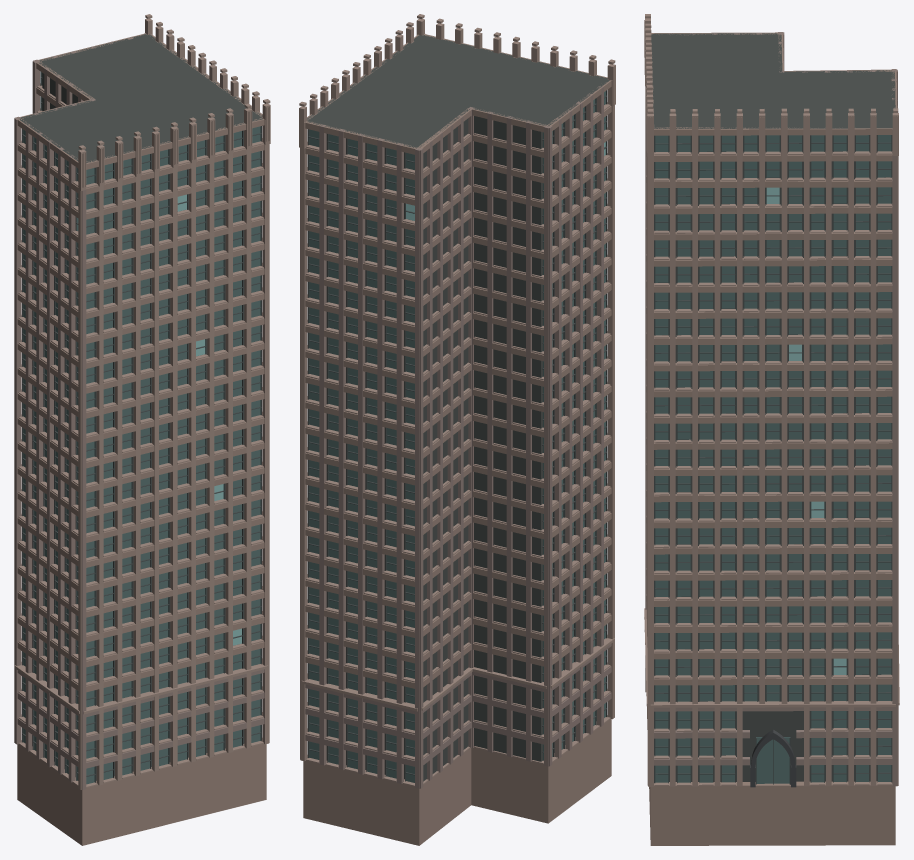
The model's file is lasalle_100.glb.
The picture shows the model from 3 angles, left to right: view 1: azimuth 30°, elevation 25°; view 2: azimuth 150°, elevation 25°; view 3: azimuth 270°, elevation 25°; orthographic projection. The views are drawn at different scales.
Parts seen in each view (by area): view 1: LaSalle100 brown terra cotta piers and crown, LaSalle100 painted brown masonry, LaSalle100 recessed green grey windows, LaSalle100 brown tiled altered base, LaSalle100 opaque interior and flat roof, LaSalle100 dark metal window frames, Night LaSalle100 occupied windows; view 2: LaSalle100 brown tiled altered base, LaSalle100 opaque interior and flat roof, LaSalle100 painted brown masonry, LaSalle100 brown terra cotta piers and crown, LaSalle100 recessed green grey windows, LaSalle100 dark metal window frames; view 3: LaSalle100 brown terra cotta piers and crown, LaSalle100 recessed green grey windows, LaSalle100 painted brown masonry, LaSalle100 opaque interior and flat roof, LaSalle100 dark metal window frames, LaSalle100 brown tiled altered base, Night LaSalle100 occupied windows, LaSalle100 black granite pointed portal.
Part boxes in pixels (x1,y1,x2,y2): LaSalle100 brown terra cotta piers and crown: (14,14,270,789); LaSalle100 painted brown masonry: (17,33,266,845); LaSalle100 recessed green grey windows: (23,72,260,784); LaSalle100 brown tiled altered base: (14,34,264,789); LaSalle100 opaque interior and flat roof: (19,34,262,780); LaSalle100 dark metal window frames: (22,71,261,782); Night LaSalle100 occupied windows: (77,194,241,645); LaSalle100 brown tiled altered base: (300,86,611,788); LaSalle100 opaque interior and flat roof: (307,34,609,781); LaSalle100 painted brown masonry: (303,34,611,845); LaSalle100 brown terra cotta piers and crown: (299,14,615,786); LaSalle100 recessed green grey windows: (309,91,605,782); LaSalle100 dark metal window frames: (307,90,607,781); LaSalle100 brown terra cotta piers and crown: (644,14,899,786); LaSalle100 recessed green grey windows: (655,135,891,783); LaSalle100 painted brown masonry: (646,32,897,845); LaSalle100 opaque interior and flat roof: (651,33,895,781); LaSalle100 dark metal window frames: (654,135,892,784); LaSalle100 brown tiled altered base: (645,32,897,786); Night LaSalle100 occupied windows: (766,187,846,674); LaSalle100 black granite pointed portal: (750,729,796,787).
Bounding box in the file's own units: 28.34 × 98 × 30.84.
